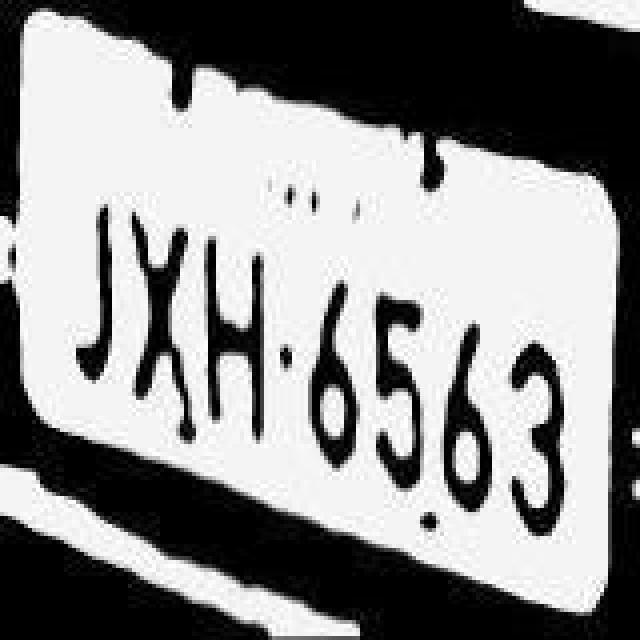3: (500, 334, 572, 554)
5: (366, 284, 434, 504)
6: (434, 308, 502, 520), (306, 256, 366, 492)
H: (204, 222, 276, 446)
J: (50, 182, 126, 402)
X: (126, 206, 194, 410)
